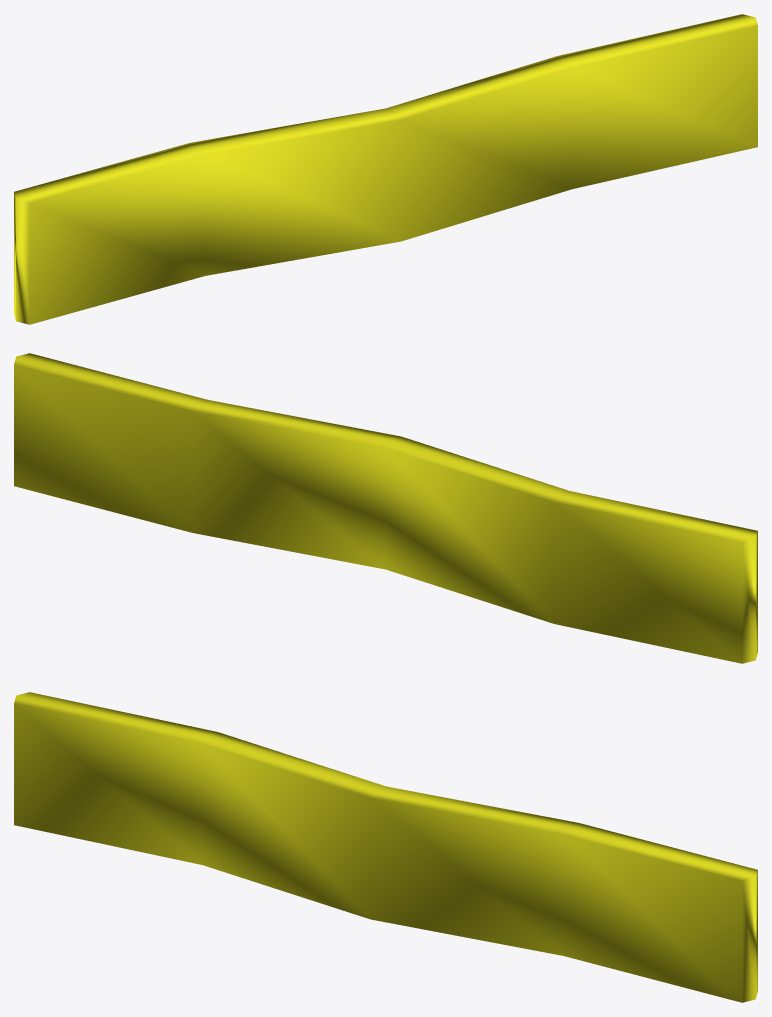
Rendered from obi.fbx.
3 renders of one model, top to bottom at view 1: azimuth 30°, elevation 25°; view 2: azimuth 150°, elevation 25°; view 3: azimuth 330°, elevation 25°, orthographic.
Visible parts, largest first — view 1: 立方体; view 2: 立方体; view 3: 立方体.
Part boxes in pixels (x1,y1,x2,y2): 立方体: (14,14,757,324); 立方体: (14,353,757,663); 立方体: (14,692,757,1002).
Size of the model in its own units: 705 by 112 by 48.55.
